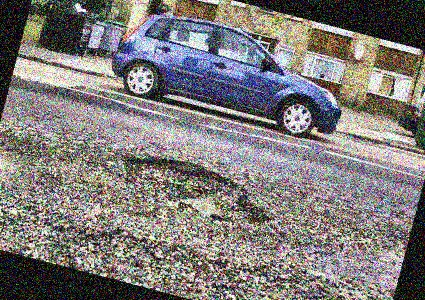pothole: (112, 143, 282, 236)
